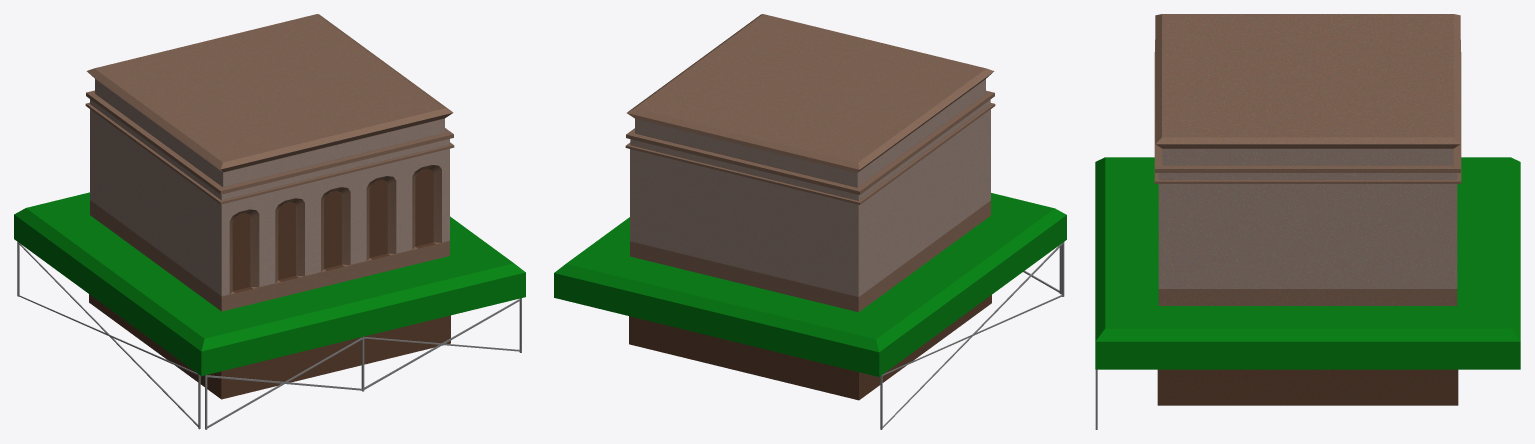
3 renders of one model, left to right at view 1: azimuth 30°, elevation 25°; view 2: azimuth 150°, elevation 25°; view 3: azimuth 270°, elevation 25°, orthographic. The views are drawn at different scales.
Parts seen in each view (by area): view 1: TS4; view 2: TS4; view 3: TS4.
Part boxes in pixels (x1,y1,x2,y2): TS4: [14, 14, 525, 429]; TS4: [554, 14, 1066, 429]; TS4: [1095, 14, 1520, 429].
Size of the model in its own units: 2000 by 1383 by 2000.
Materials: 1 (1 with a texture image).
